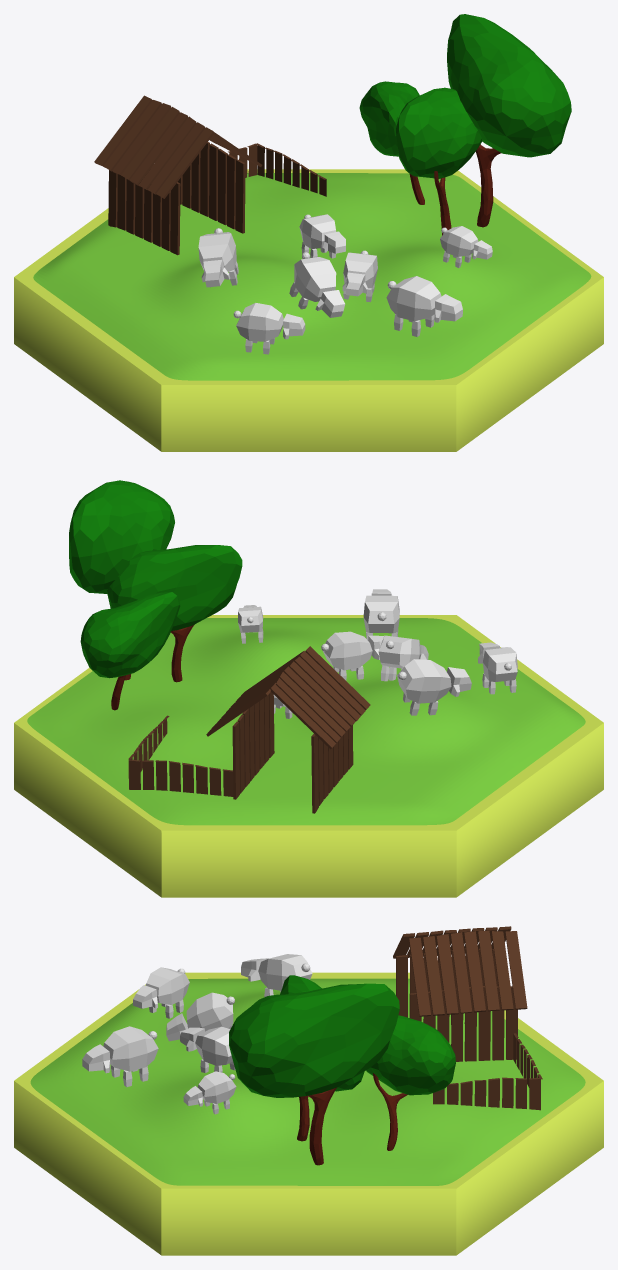
The model's file is Pasture_Hexagon.fbx.
3 renders of one model, top to bottom at view 1: azimuth 30°, elevation 25°; view 2: azimuth 150°, elevation 25°; view 3: azimuth 270°, elevation 25°, orthographic.
Visible parts, largest first — view 1: Plane, Hexagon, House, Tree.002, Tree.003, Tree.001, Sheep.004, Sheep, Sheep.006, Sheep.001, Sheep.007, Sheep.005 (+1 smaller); view 2: Plane, Hexagon, House, Tree.002, Tree.003, Tree.001, Sheep.001, Sheep.005, Sheep.006, Sheep.004, Sheep, Sheep.003; view 3: Plane, Hexagon, House, Tree.002, Tree.001, Sheep.004, Sheep.006, Sheep, Sheep.001, Sheep.005, Sheep.003, Tree.003.
Boxes of the visible parts, <box> form: Plane: <box>33,173,591,380</box>; Hexagon: <box>14,169,603,451</box>; House: <box>94,95,326,255</box>; Tree.002: <box>447,14,571,227</box>; Tree.003: <box>396,87,482,235</box>; Tree.001: <box>359,81,424,204</box>; Sheep.004: <box>386,276,462,336</box>; Sheep: <box>289,252,345,317</box>; Sheep.006: <box>233,303,305,354</box>; Sheep.001: <box>198,228,238,287</box>; Sheep.007: <box>299,214,345,258</box>; Sheep.005: <box>342,250,377,301</box>; Plane: <box>27,618,585,825</box>; Hexagon: <box>14,615,603,897</box>; House: <box>128,646,370,813</box>; Tree.002: <box>69,480,174,680</box>; Tree.003: <box>106,545,242,682</box>; Tree.001: <box>80,592,180,710</box>; Sheep.001: <box>397,659,471,715</box>; Sheep.005: <box>321,631,383,680</box>; Sheep.006: <box>478,642,517,694</box>; Sheep.004: <box>363,589,399,640</box>; Sheep: <box>378,635,428,681</box>; Sheep.003: <box>238,605,263,643</box>; Plane: <box>30,978,585,1185</box>; Hexagon: <box>14,972,603,1255</box>; House: <box>393,926,542,1110</box>; Tree.002: <box>229,983,399,1165</box>; Tree.001: <box>366,1015,455,1150</box>; Sheep.004: <box>82,1026,158,1087</box>; Sheep.006: <box>133,967,189,1018</box>; Sheep: <box>166,992,234,1041</box>; Sheep.001: <box>241,954,312,997</box>; Sheep.005: <box>180,1026,235,1072</box>; Sheep.003: <box>183,1071,236,1114</box>; Tree.003: <box>280,975,364,1141</box>.
Bounding box in the file's own units: 359 × 194 × 400.
